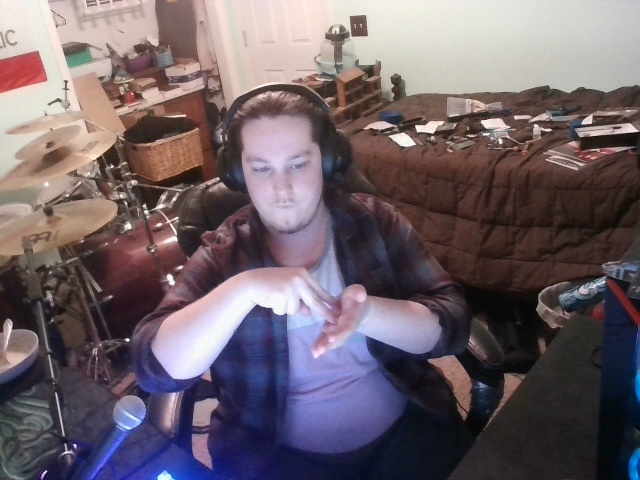fork: (227, 247, 378, 373)
